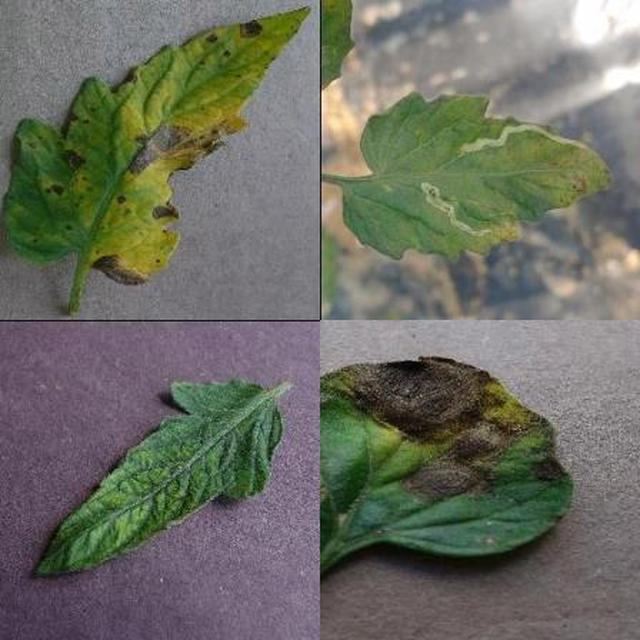Early Blight Leaf: (223, 209, 640, 640)
